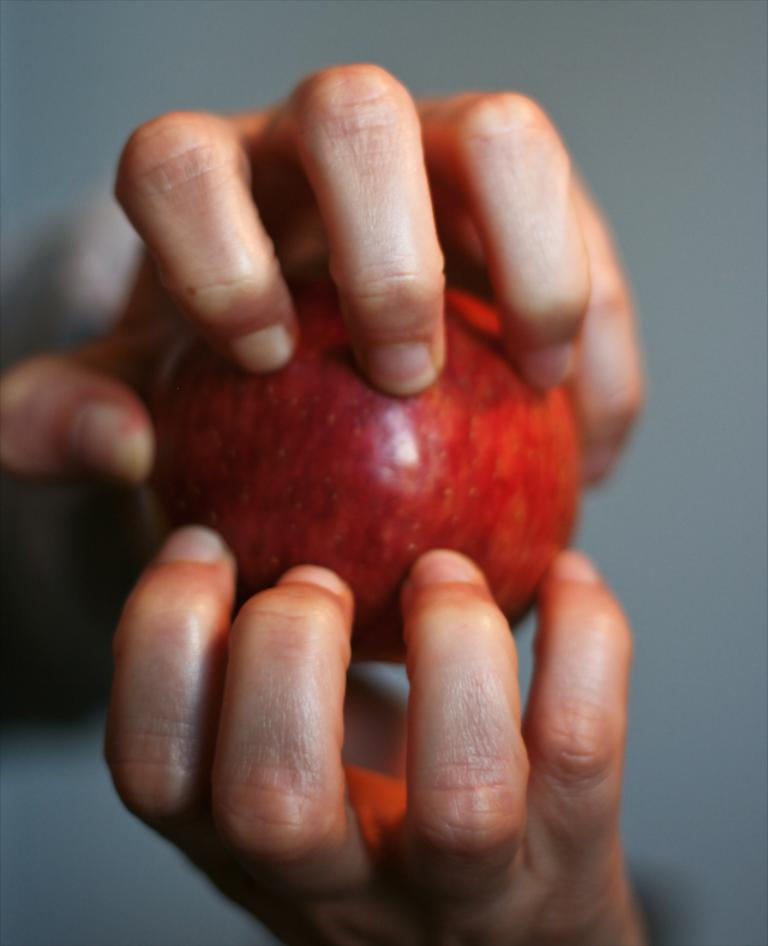Apple: (145, 322, 595, 607)
